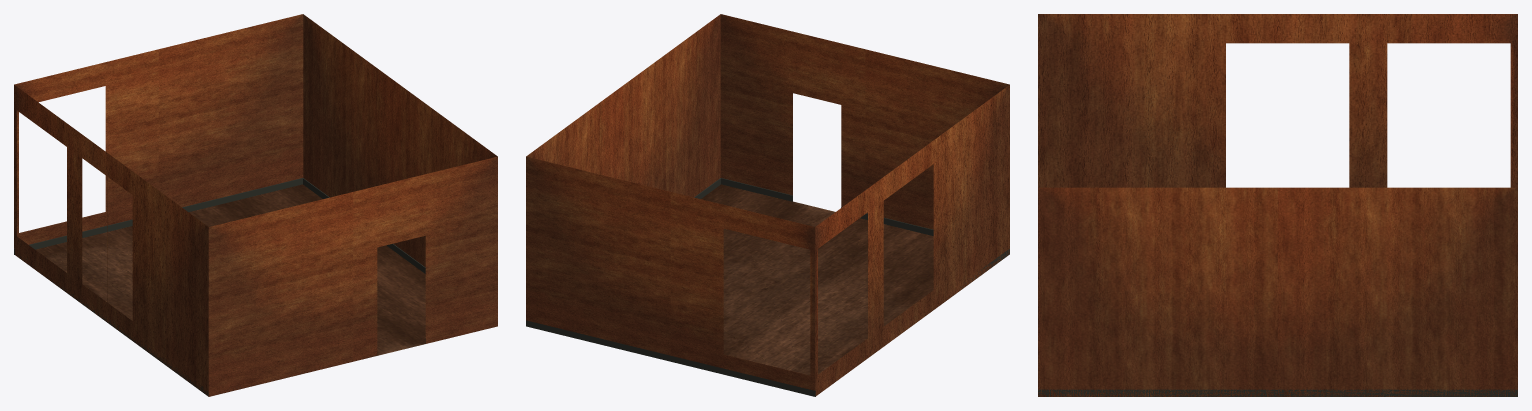
Rendered from RoomFinishVariant!!.fbx.
3 views of the same model, side by side, from view 1: azimuth 30°, elevation 25°; view 2: azimuth 150°, elevation 25°; view 3: azimuth 270°, elevation 25° (orthographic). The views are drawn at different scales.
Visible parts, largest first — view 1: Room.001, Room.005, Room, Room.002, Room.004, Floor, Room.006, Room.003, Baseboard; view 2: Room.005, Floor, Room, Room.002, Room.003, Room.006, Room.001, Room.004, Baseboard; view 3: Room.003, Room.004, Room, Baseboard.
Boxes of the visible parts, x1,y1,x2,y2 form: Room.001: (208,192,353,396); Room.005: (158,14,303,207); Room: (14,85,208,395); Room.002: (353,156,497,361); Room.004: (303,14,400,248); Floor: (35,184,425,355); Room.006: (14,49,158,244); Room.003: (400,85,497,266); Baseboard: (14,178,425,396); Room.005: (526,156,670,355); Floor: (701,184,933,375); Room: (815,85,1009,396); Room.002: (720,14,865,207); Room.003: (623,14,720,197); Room.006: (670,192,815,390); Room.001: (865,49,1009,229); Room.004: (526,85,623,179); Baseboard: (526,178,1009,396); Room.003: (1038,187,1277,396); Room.004: (1278,187,1517,396); Room: (1038,14,1517,187); Baseboard: (1038,389,1517,396).
Bounding box in the file's own units: 601 × 337 × 700.
Materials: 9 (8 with a texture image).
